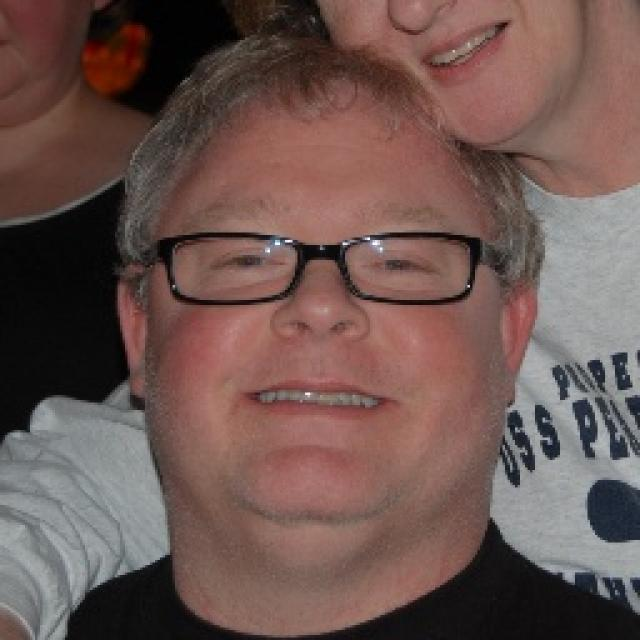earlobe: (500, 272, 540, 410), (114, 264, 147, 404)
